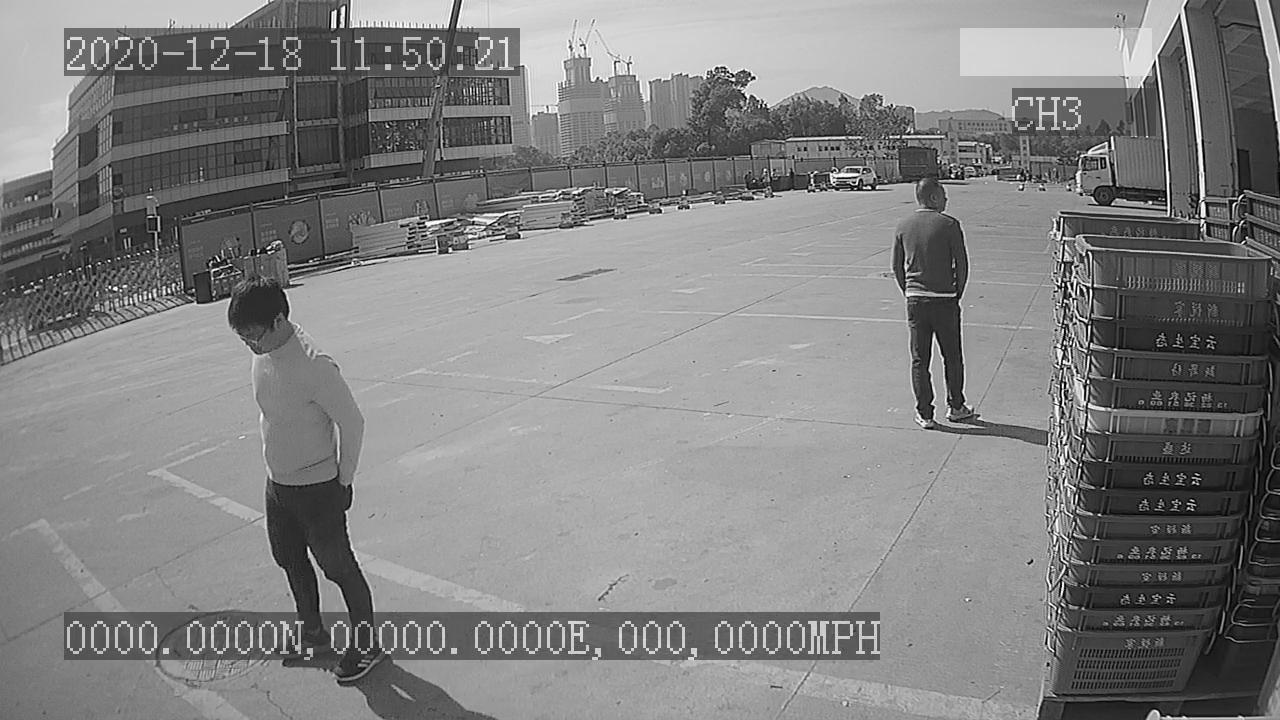person: (888, 174, 986, 433)
